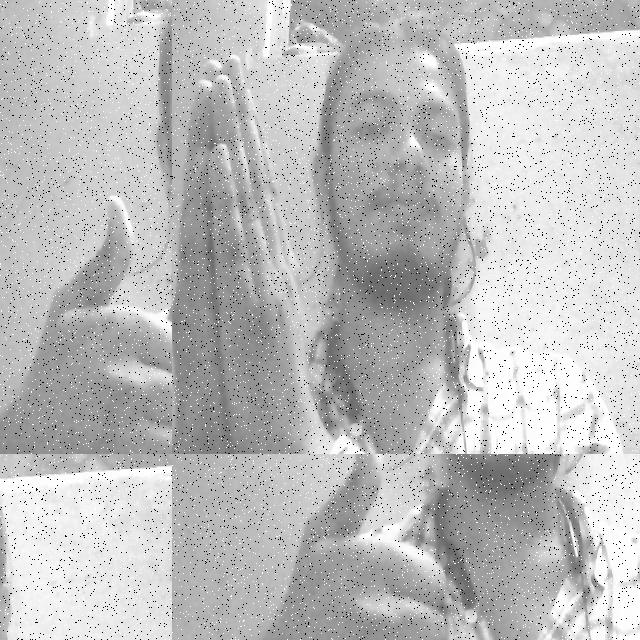Thank You: (172, 56, 341, 454)
Yes: (0, 194, 172, 454), (232, 454, 444, 640)
